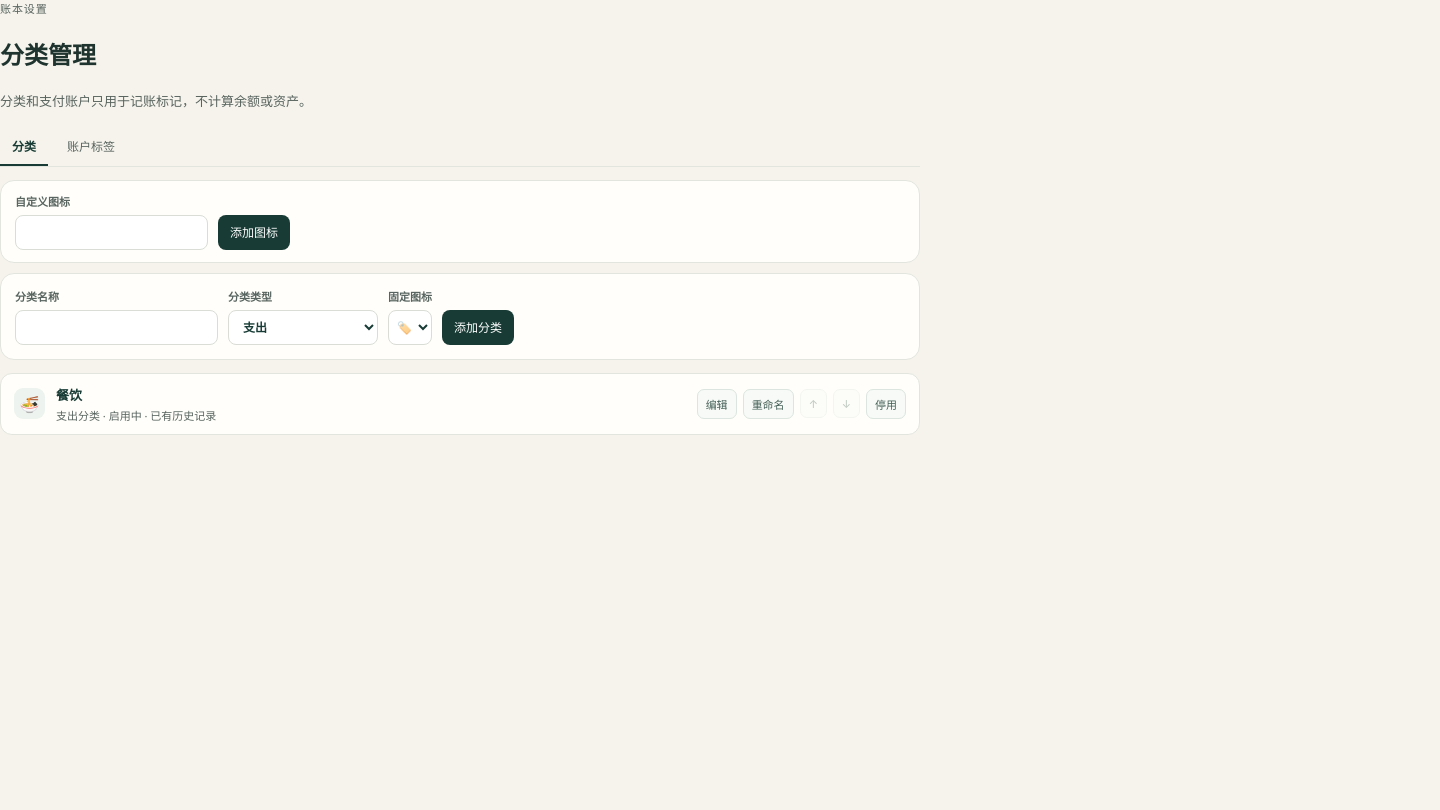
Test: LabelsPage › 没有同类型启用迁移目标时禁用确认并在对话框说明原因
This screenshot has width=1440, height=810.
Click the button "停用" at point(886, 404), box [866, 389, 906, 419]
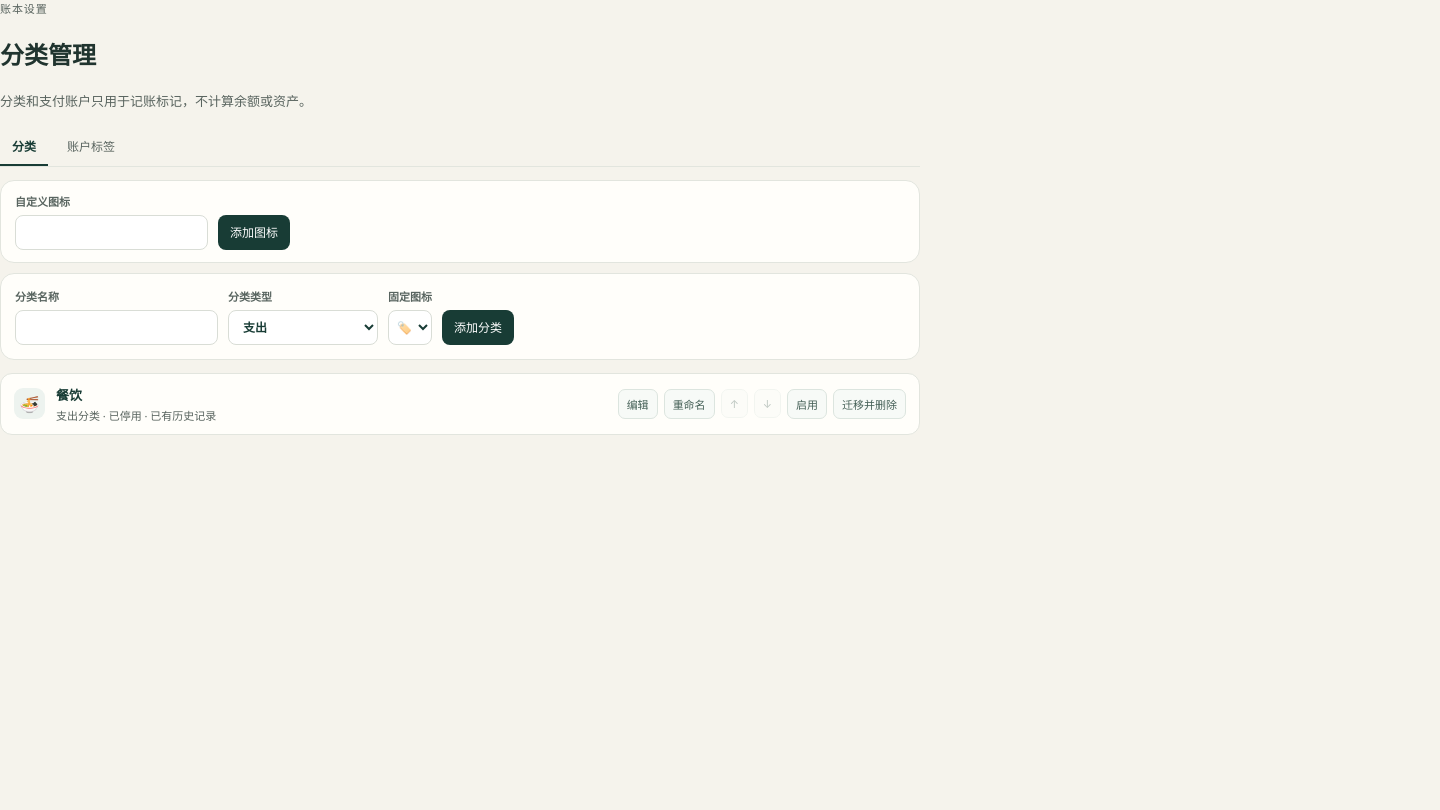
Click the button "迁移并删除" at point(870, 404), box [833, 389, 906, 419]
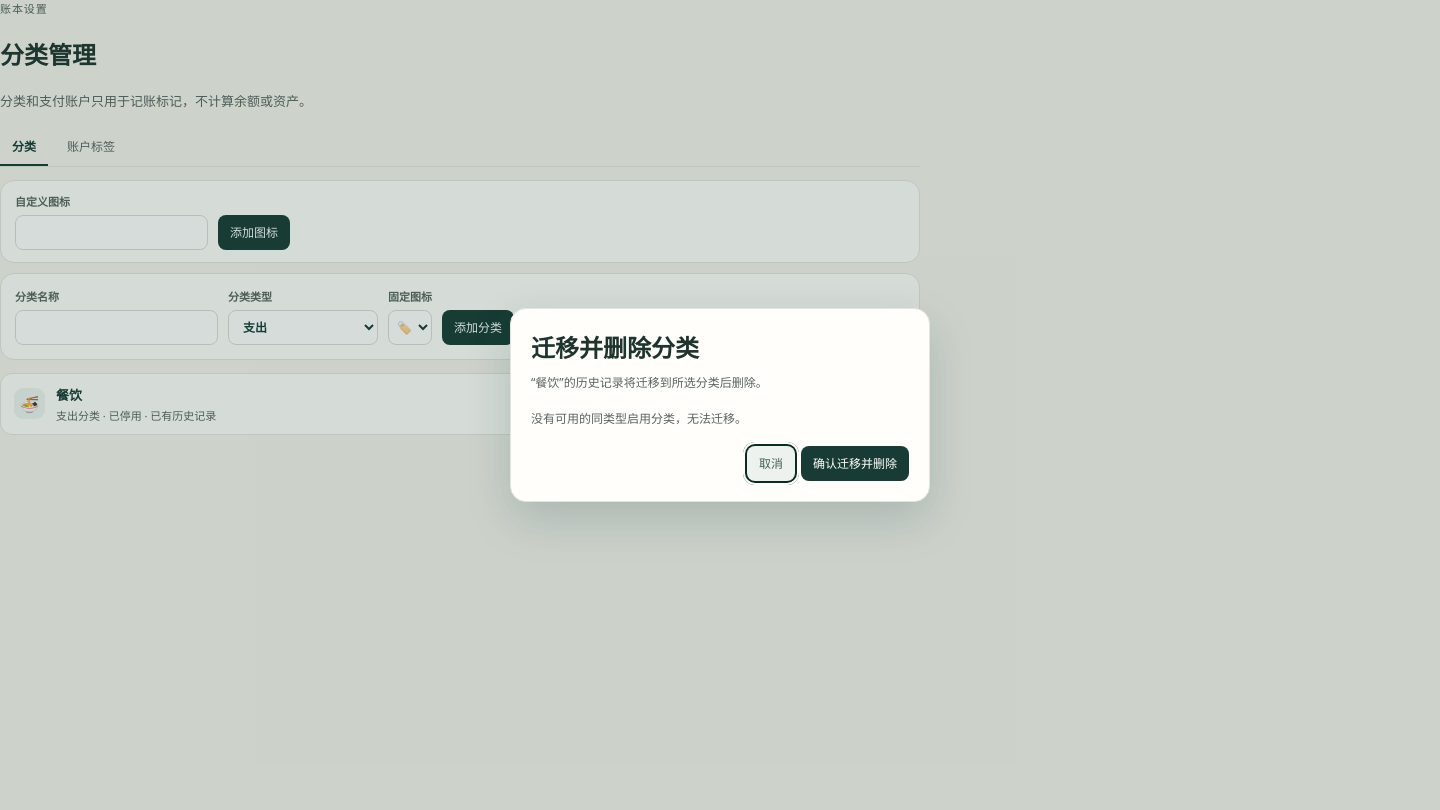
Expected: the dialog shows "没有可用的同类型启用分类", [531, 410, 747, 426]
Expected: the button "确认迁移并删除" is disabled, [801, 446, 909, 481]
